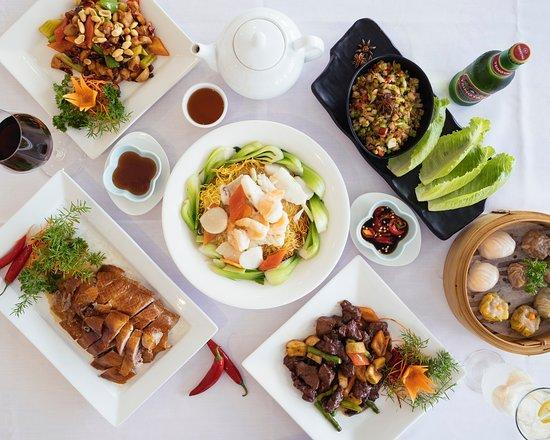Braised Crucian Carp: (1, 172, 219, 426), (309, 18, 489, 236), (239, 260, 456, 440), (161, 119, 348, 309), (1, 0, 205, 158), (442, 211, 550, 352)
